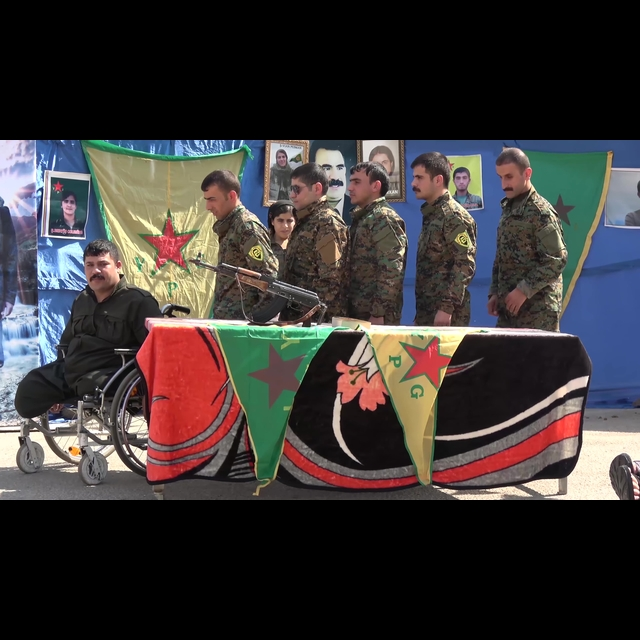AK47: (189, 256, 332, 327)
YPG: (130, 209, 207, 306), (389, 325, 440, 416)
